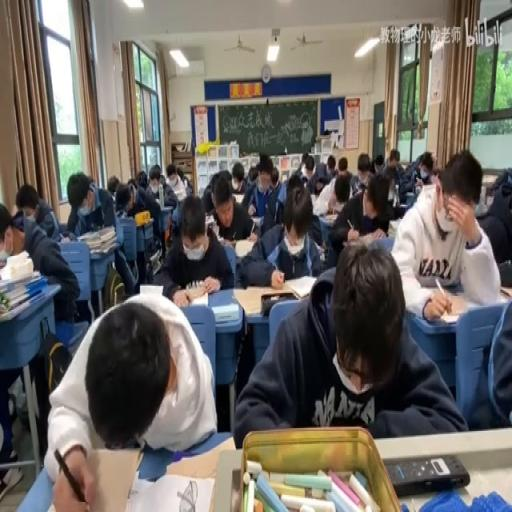calculator: (56, 442, 142, 509), (128, 469, 216, 512), (159, 434, 232, 479), (230, 286, 288, 314), (0, 291, 38, 321), (0, 266, 39, 292), (284, 273, 317, 297), (212, 302, 238, 324), (234, 238, 256, 258), (138, 283, 164, 297), (186, 289, 210, 304), (148, 248, 161, 272), (388, 216, 398, 236), (230, 192, 245, 205), (404, 192, 416, 208), (320, 212, 338, 222), (499, 283, 511, 297), (174, 192, 184, 208), (250, 213, 262, 226), (205, 214, 216, 228), (222, 238, 236, 248), (310, 189, 322, 199), (248, 202, 255, 213)
paper: (236, 247, 462, 444), (0, 192, 78, 465), (389, 151, 501, 311), (156, 194, 232, 300), (462, 286, 510, 429), (328, 171, 393, 256), (264, 175, 322, 247), (130, 170, 166, 264), (66, 170, 114, 238), (200, 168, 235, 215), (409, 149, 440, 192), (112, 245, 137, 297), (0, 202, 21, 256), (306, 154, 332, 194), (163, 160, 187, 200), (380, 148, 402, 183), (486, 168, 512, 196), (346, 155, 364, 195), (228, 158, 246, 193), (285, 171, 303, 195), (106, 175, 120, 196), (134, 185, 148, 206), (372, 152, 384, 174), (298, 152, 310, 174), (148, 165, 161, 185), (134, 171, 148, 189), (396, 202, 410, 218), (270, 165, 279, 186), (248, 166, 258, 184), (118, 204, 130, 218), (126, 175, 137, 189), (392, 184, 399, 206), (338, 155, 347, 172), (326, 155, 334, 172), (182, 176, 189, 188), (159, 175, 166, 183)
person: (386, 454, 470, 496), (230, 466, 242, 510)
